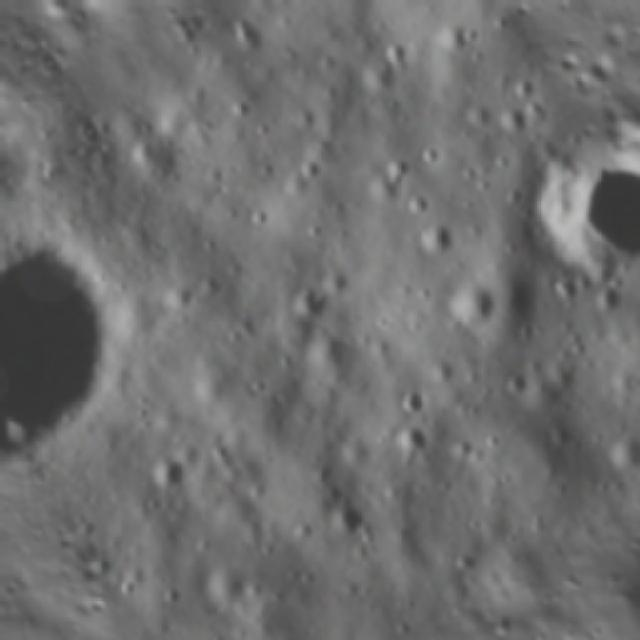crater: (0, 168, 188, 458), (506, 139, 640, 315), (429, 275, 513, 356), (127, 428, 205, 506), (283, 284, 331, 330)
